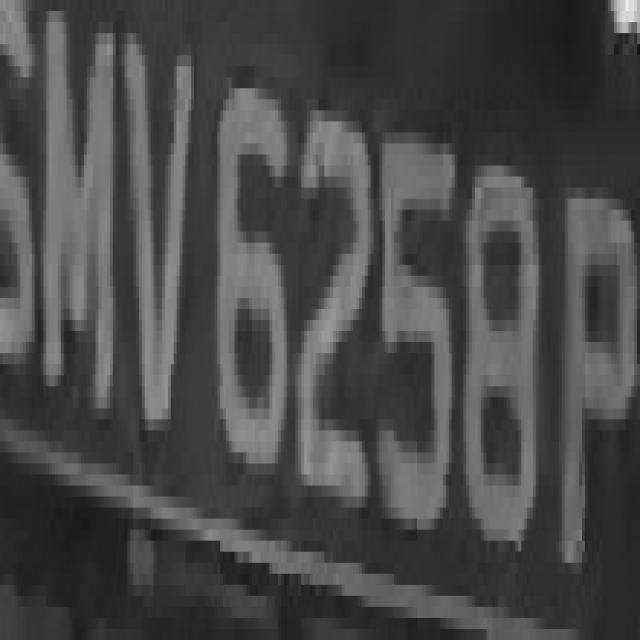2: (292, 88, 370, 530)
5: (373, 88, 458, 530)
6: (208, 55, 296, 486)
8: (460, 143, 550, 574)
M: (37, 0, 124, 441)
P: (553, 143, 637, 607)
S: (3, 0, 38, 386)
V: (121, 33, 202, 486)
